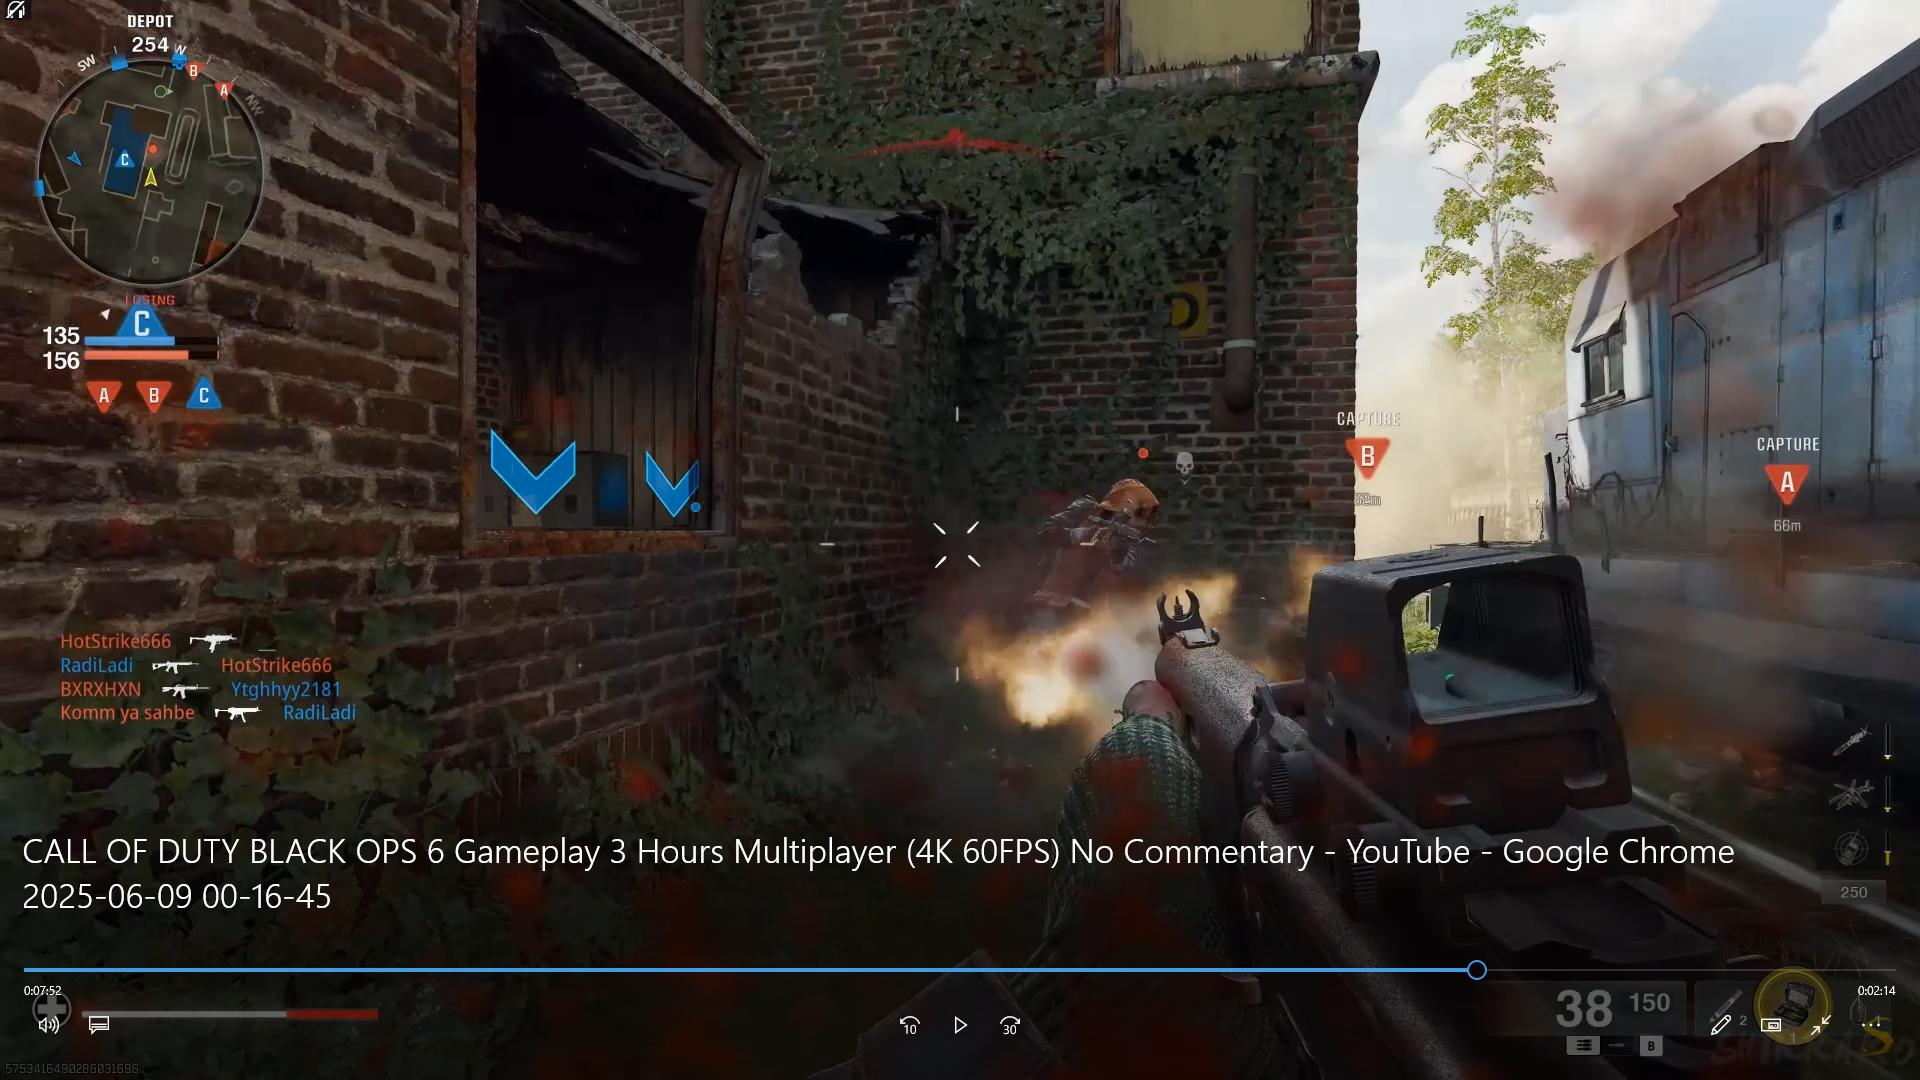Enemy: (1019, 465, 1162, 629)
